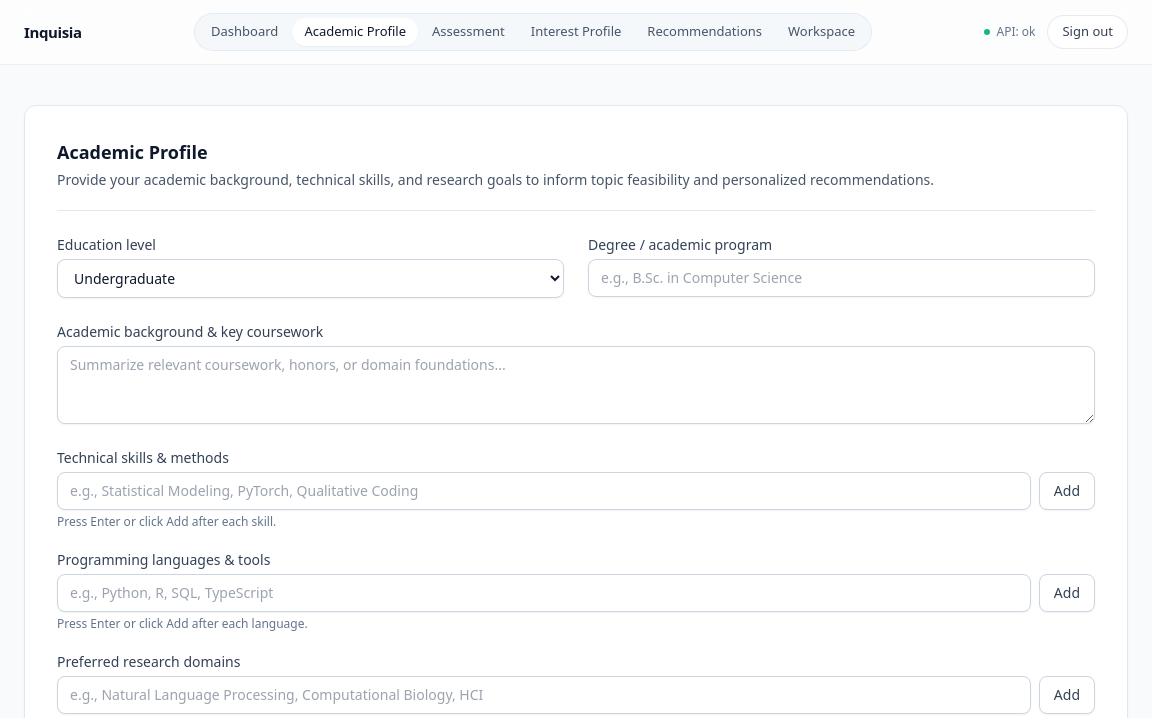
Test case: ProfilePage › creates a new academic profile when GET /profile returns 404
In the field labelled "Degree / academic program": (842, 278) [588,259,1095,297], type "B.Sc. in Computer Science"
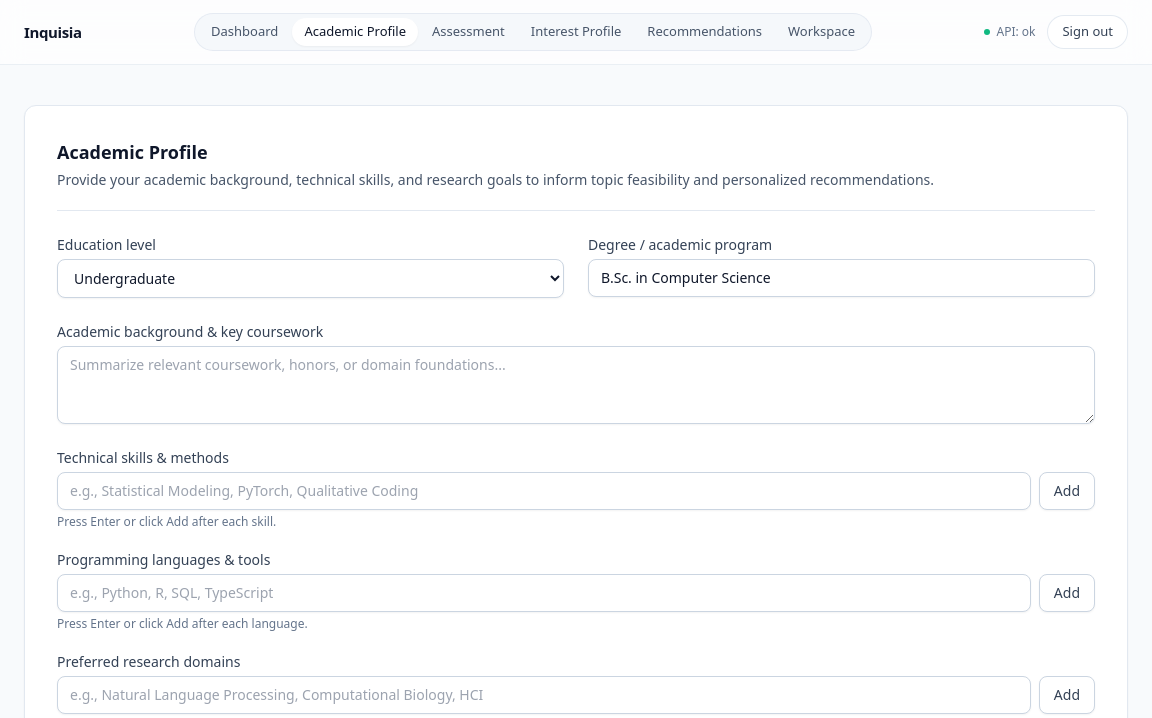
In the field labelled "Technical skills & methods": (544, 491) [57,472,1031,510], type "PyTorch"
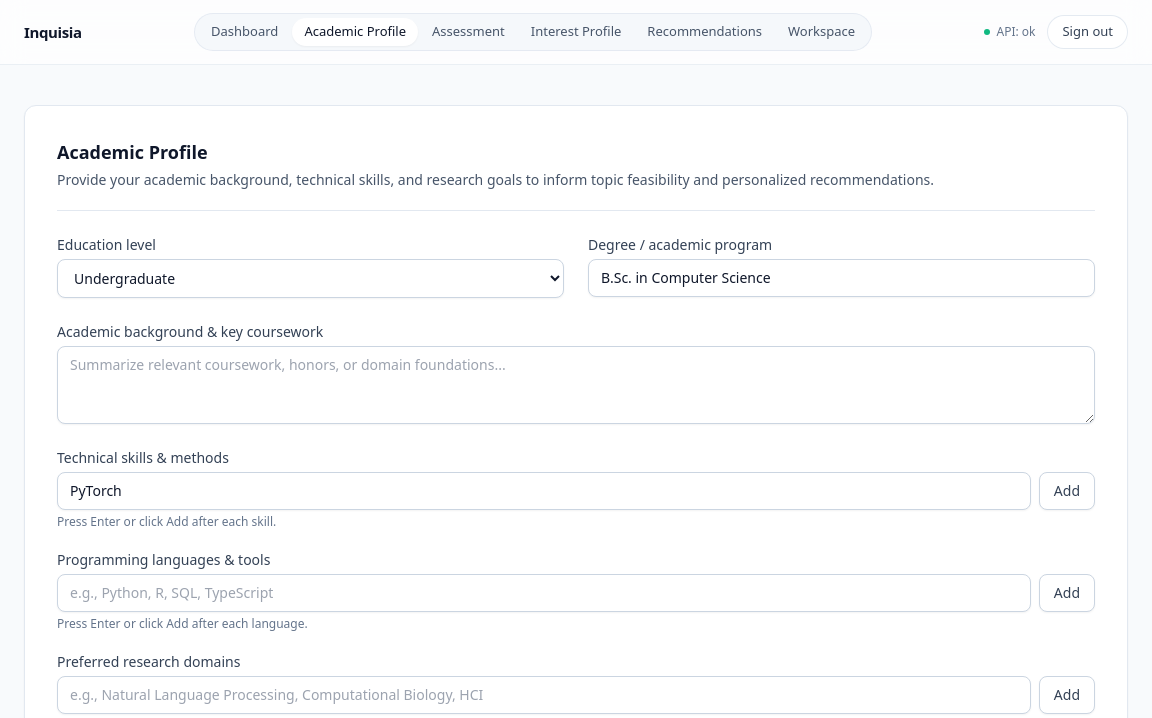
Press Enter in the field labelled "Technical skills & methods", box [57,472,1031,510]
(page scrolled)
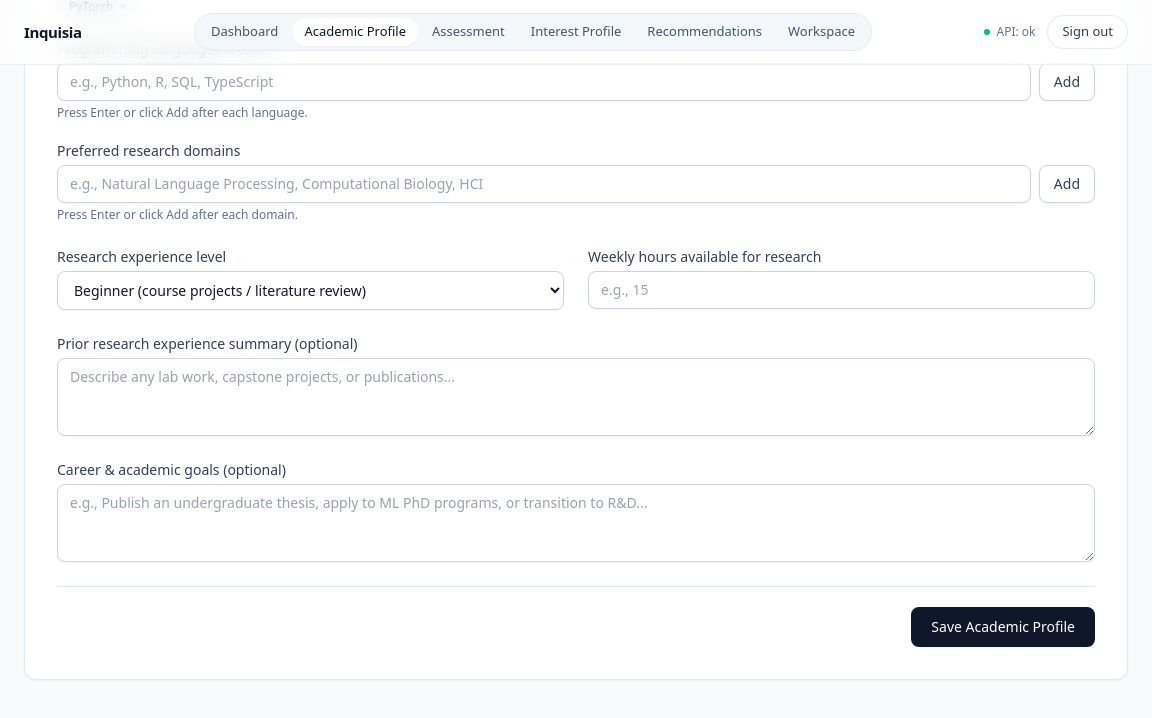
Click the button "Save Academic Profile": (1003, 627) [911,607,1095,647]
(page scrolled)
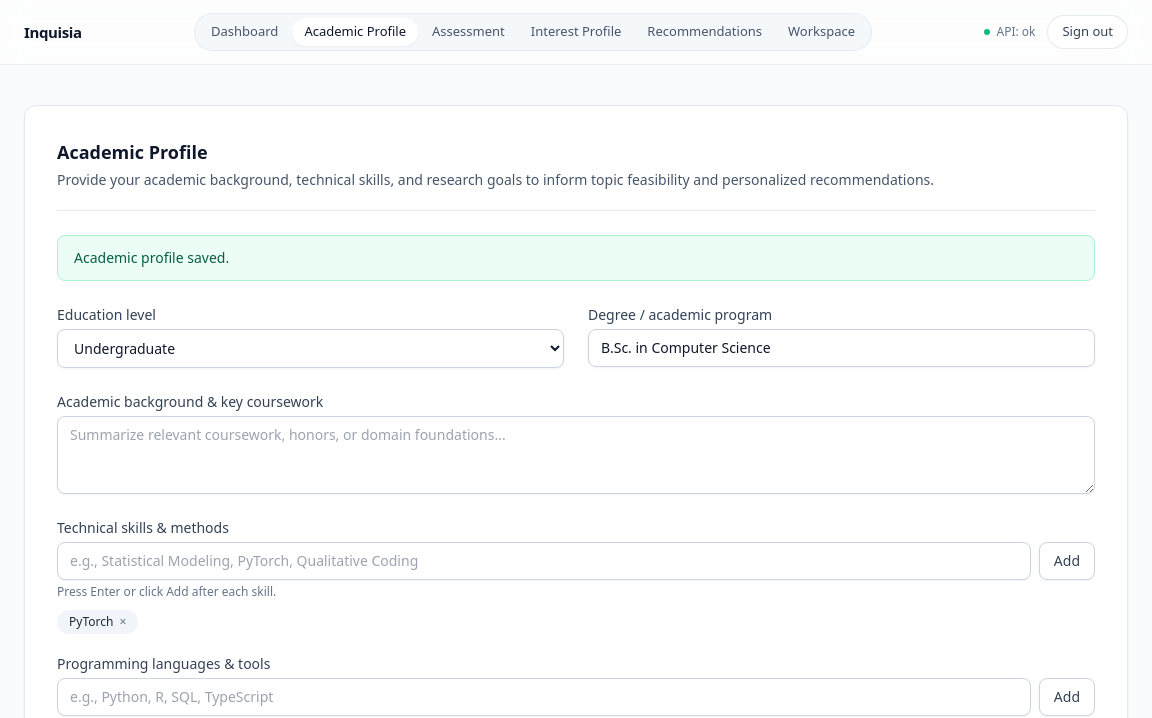
Result: the text "Academic profile saved." is shown at [57,235,1095,281]
